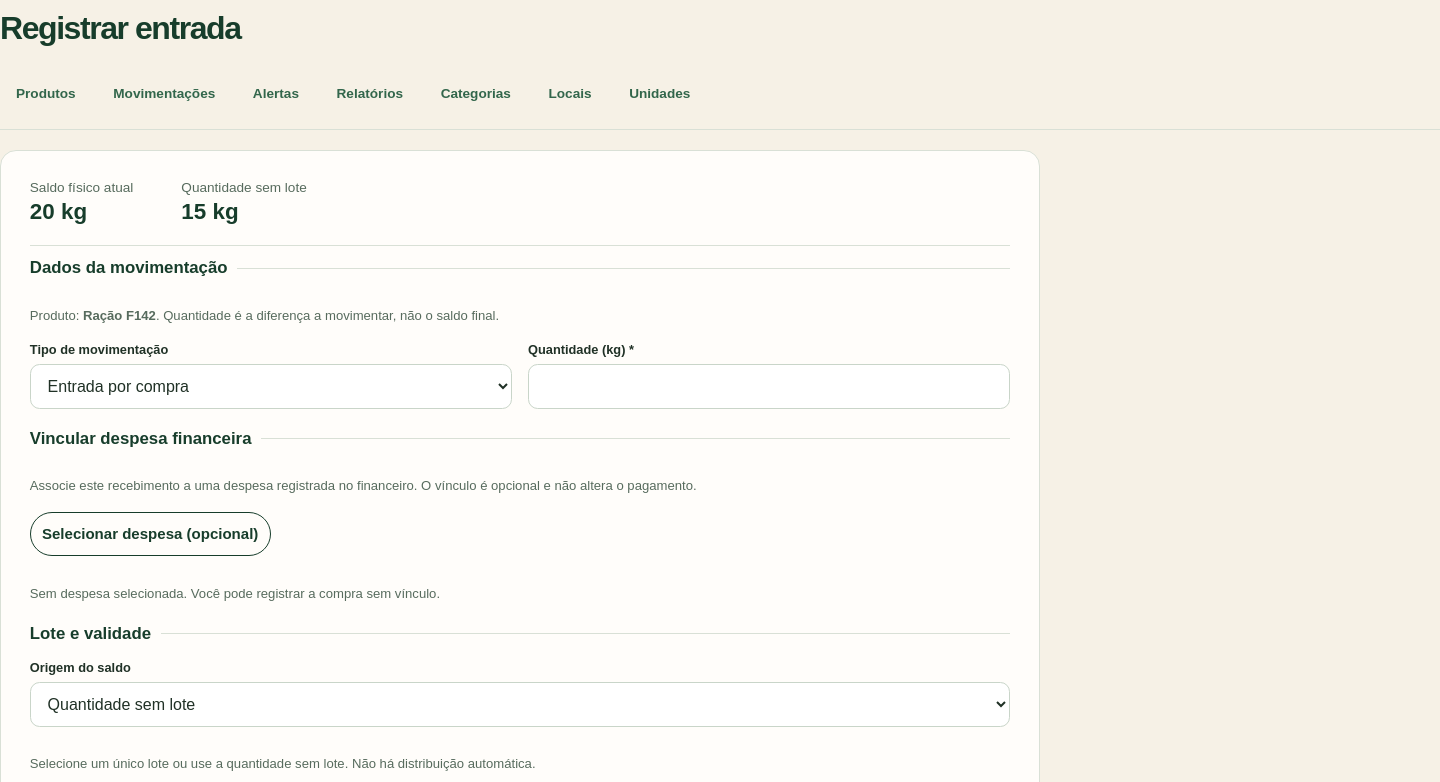
Test: registra entrada e recarrega o saldo confirmado pelo backend
Type "2.500" into the field labelled "Quantidade (kg) *". click: coordinates (769, 386)
box: [528,364,1010,409]
(page scrolled)
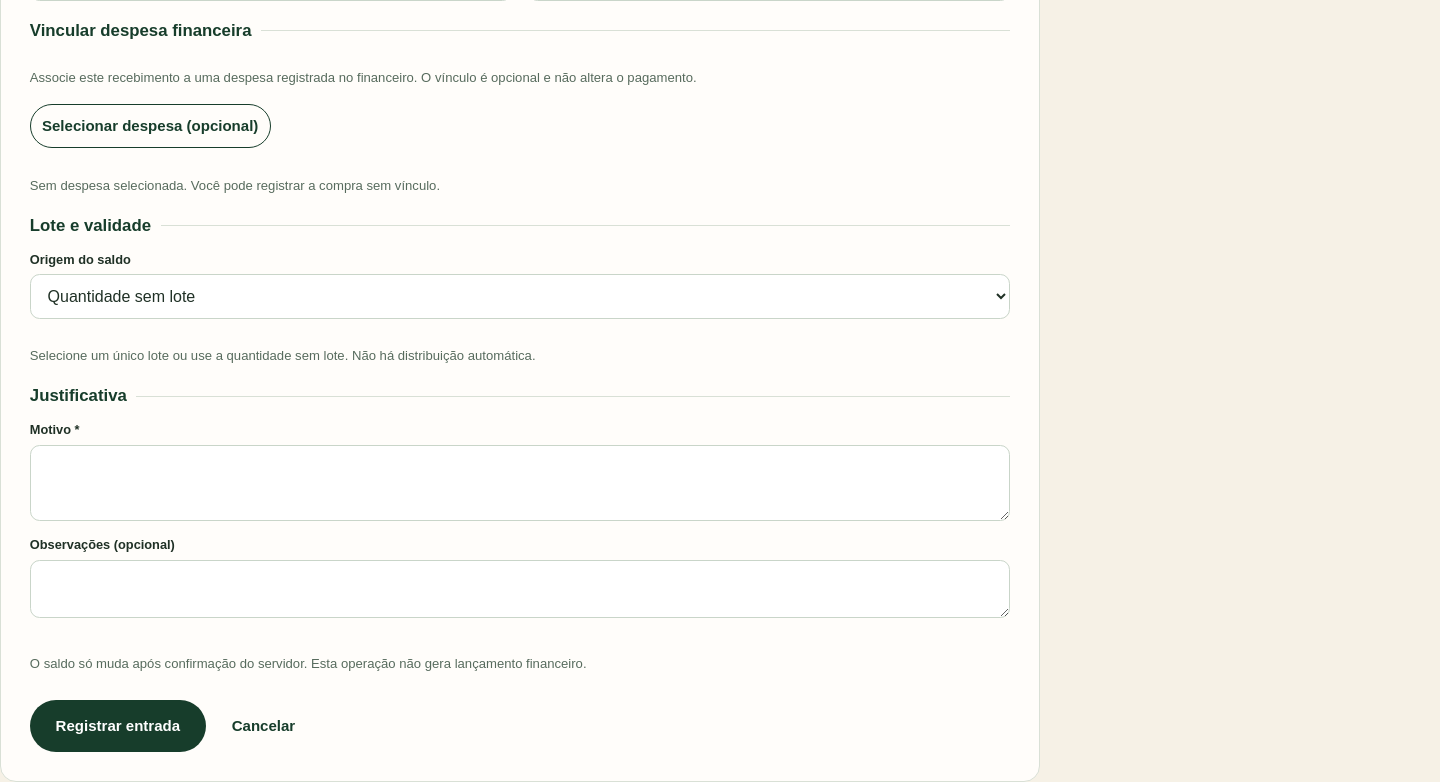
Type "Conferência física" into the text box labelled "Motivo *". click: coordinates (520, 483)
box: [30,445,1010,522]
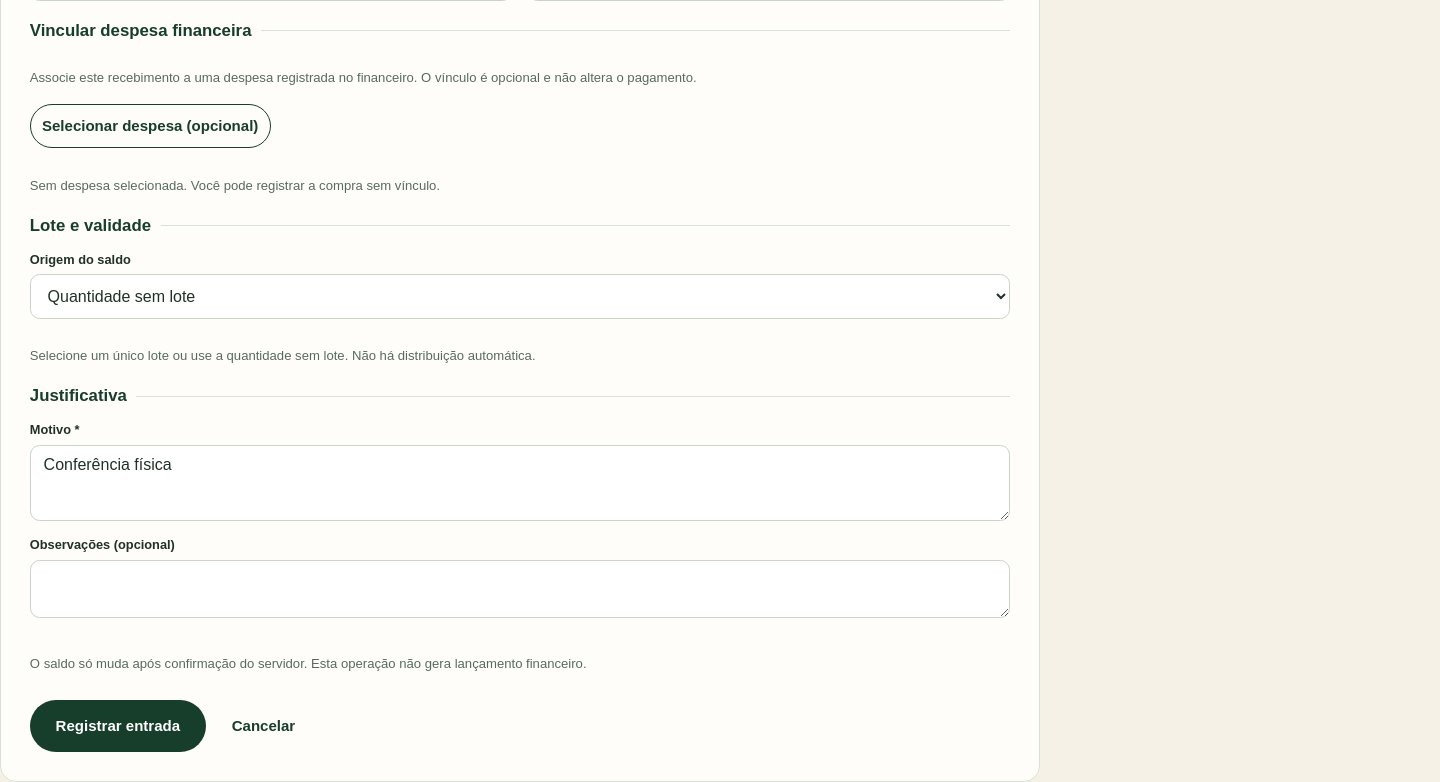
Click the button "Registrar entrada". click: coordinates (118, 726)
box: [30,700,206,752]
(page scrolled)
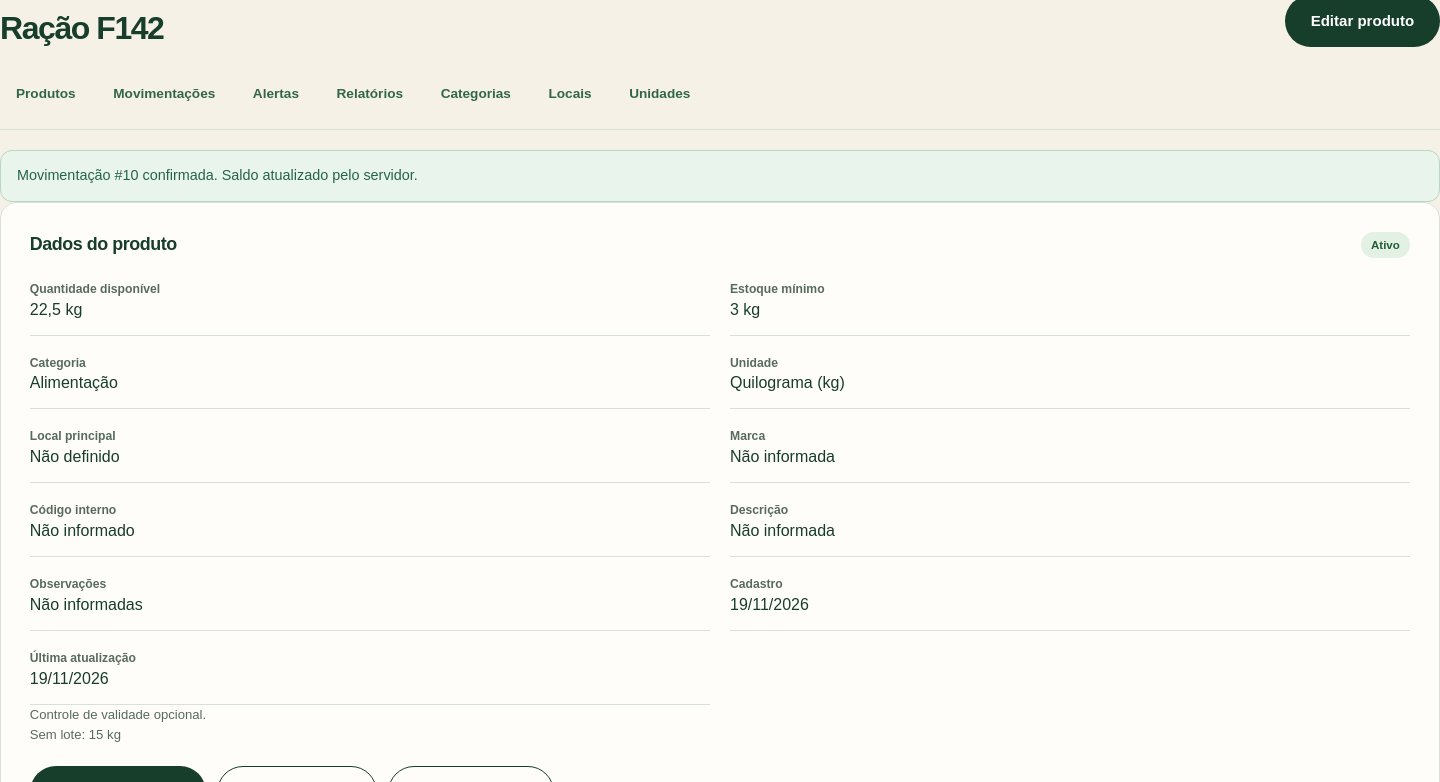
Check: the text "Movimentação #10 confirmada. Saldo atualizado pelo servidor." is shown, box [0,150,1439,202]
Check: the text "22,5 kg" is shown, box [30,301,82,318]
